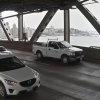Car: (27, 37, 87, 67)
